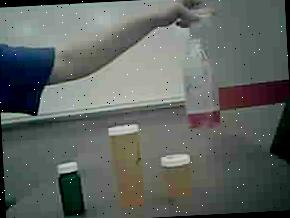Bottle A: (99, 118, 152, 214)
Bottle B: (154, 150, 200, 200)
Bottle C: (48, 156, 100, 218)
hazard: (172, 0, 228, 131)
